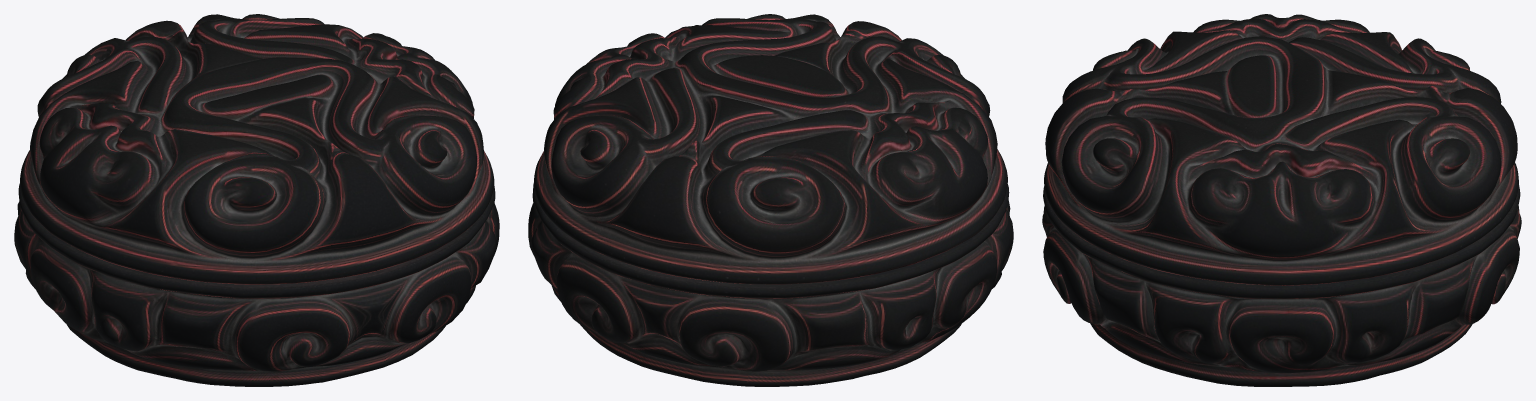
Rendered from 17-yuan-zhangcheng-lacquer.glb.
The picture shows the model from 3 angles, left to right: view 1: azimuth 30°, elevation 25°; view 2: azimuth 150°, elevation 25°; view 3: azimuth 270°, elevation 25°; orthographic projection.
Visible parts, largest first — view 1: Retopo_Mesh_0; view 2: Retopo_Mesh_0; view 3: Retopo_Mesh_0.
Part boxes in pixels (box(x1,y1,x2,y2)): Retopo_Mesh_0: box(14, 14, 499, 386); Retopo_Mesh_0: box(528, 14, 1013, 386); Retopo_Mesh_0: box(1042, 14, 1521, 386).
Size of the model in its own units: 1.9 by 0.9866 by 1.88.
1 material, 1 textured.
